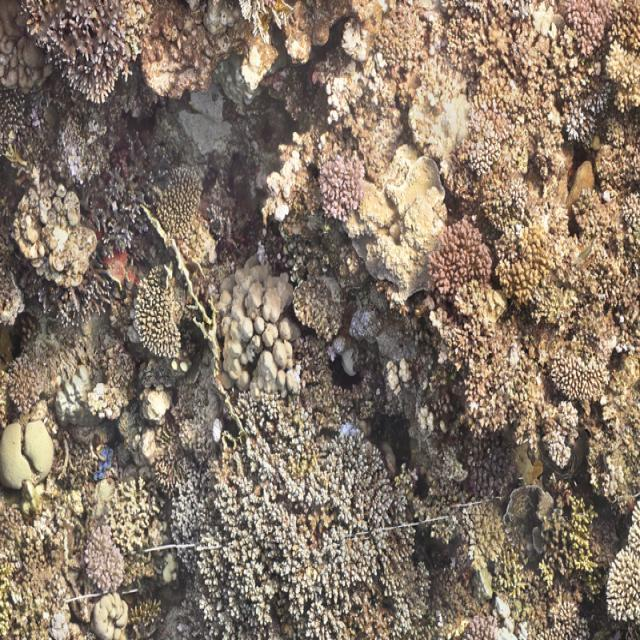Bleached Coral: (176, 435, 404, 640), (254, 151, 310, 235), (564, 83, 616, 157), (319, 65, 362, 133)
Healthy Coral: (435, 219, 640, 489)
